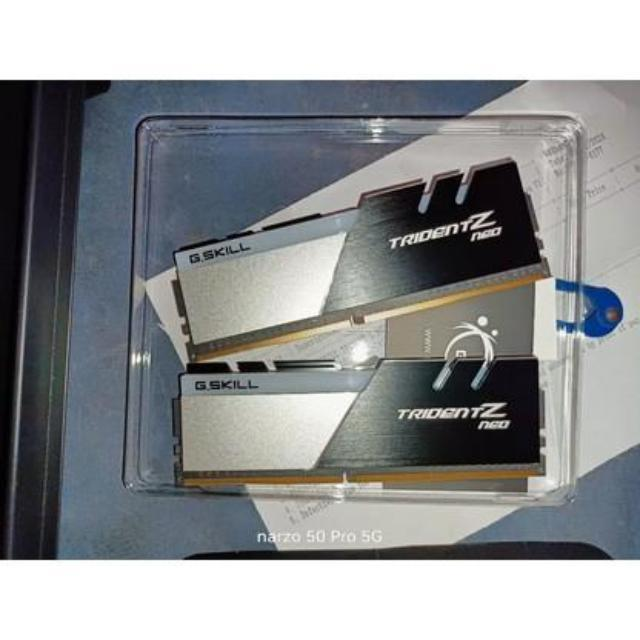RAM: (166, 155, 551, 353), (166, 356, 548, 484)
